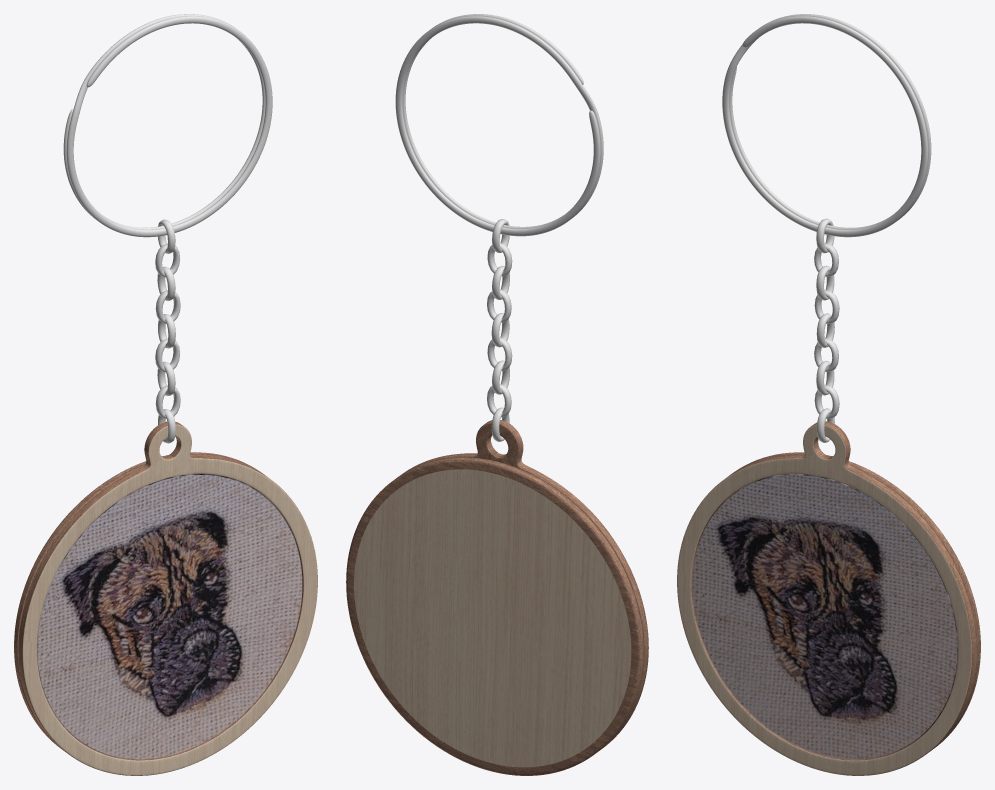
File: Keychain.glb
3 views of the same model, side by side, from view 1: azimuth 30°, elevation 25°; view 2: azimuth 150°, elevation 25°; view 3: azimuth 330°, elevation 25° (orthographic).
Visible parts, largest first — view 1: Circle.002; view 2: Circle.002; view 3: Circle.002.
Part boxes in pixels (x1=…): Circle.002: x1=14, y1=14, x2=317, y2=775; Circle.002: x1=346, y1=14, x2=648, y2=775; Circle.002: x1=677, y1=14, x2=980, y2=775.
Size of the model in its own units: 0.4965 by 1.21 by 0.0397.
Materials: 4 (3 with a texture image).
